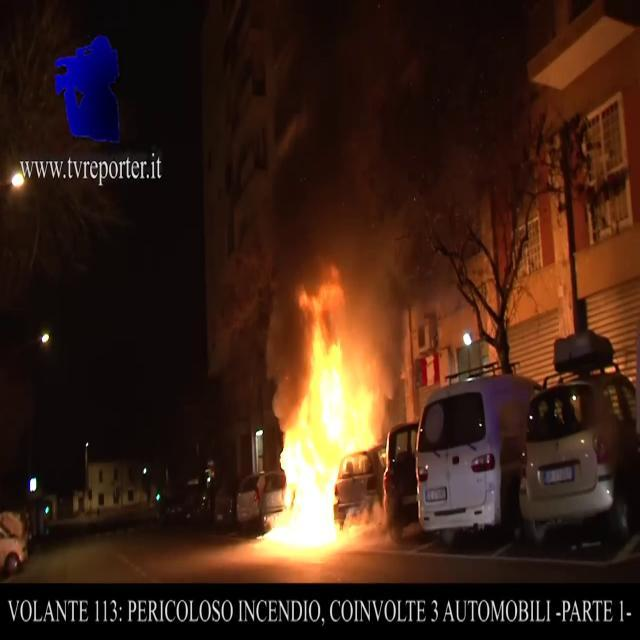Fire: (259, 272, 387, 558)
Smoke: (262, 1, 530, 334)
